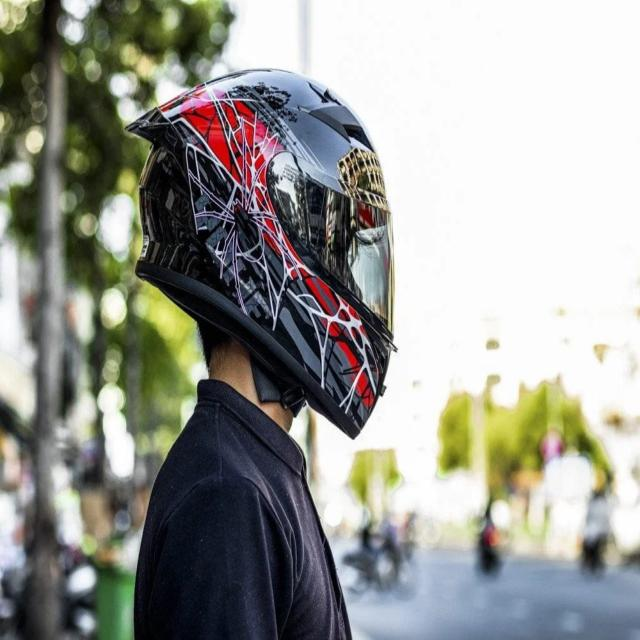Full-face-helmet: (124, 68, 396, 439)
